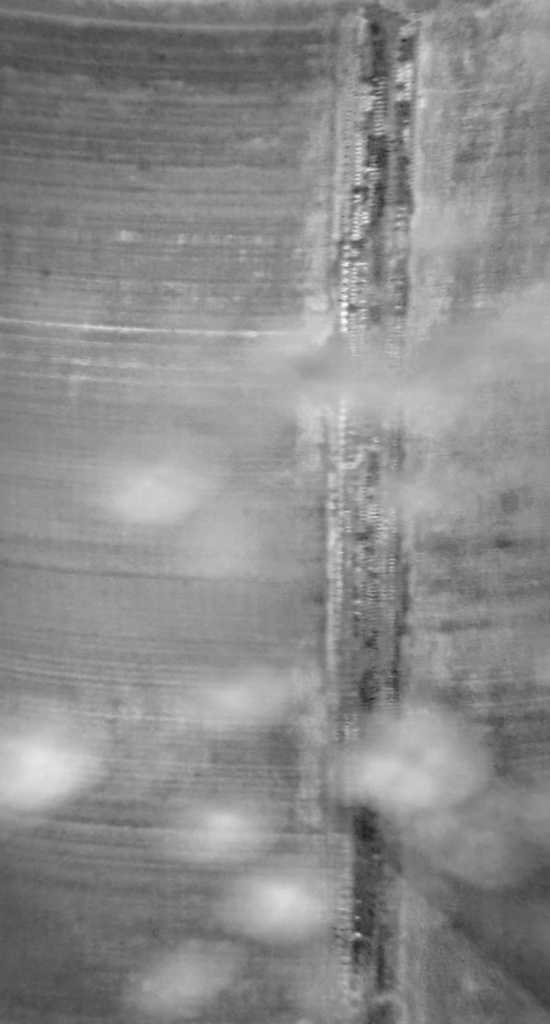splice: (325, 1, 422, 1022)
